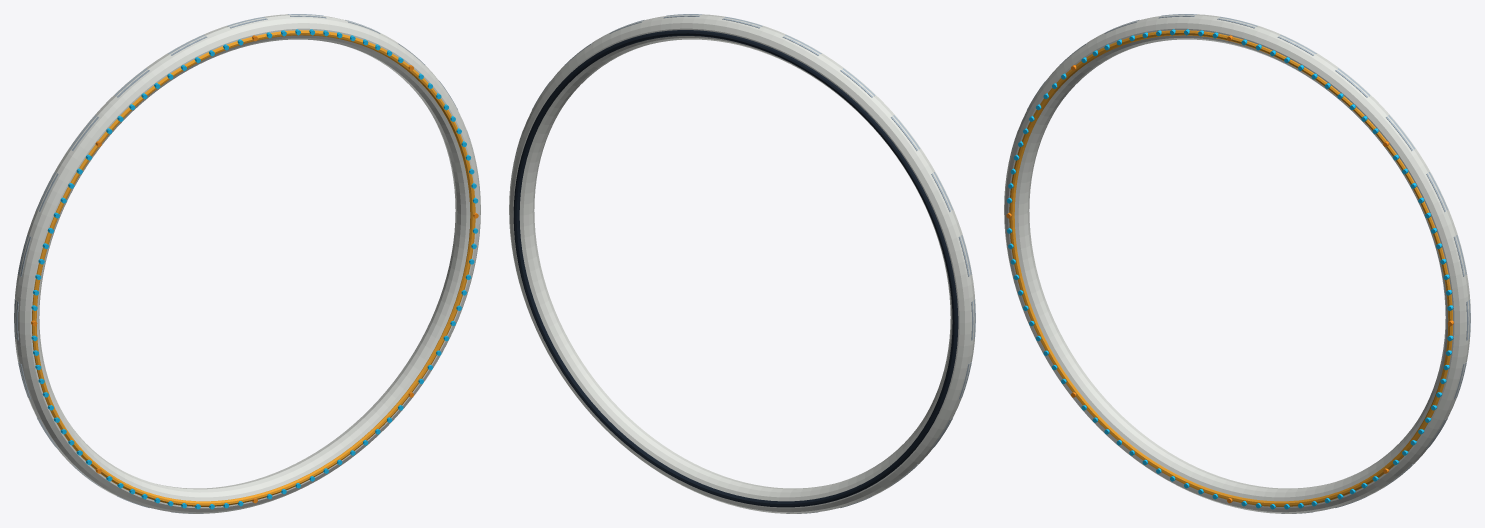
Rendered from 02_L87_RotatingHabitatRingMainRotor.fbx.
The picture shows the model from 3 angles, left to right: view 1: azimuth 30°, elevation 25°; view 2: azimuth 150°, elevation 25°; view 3: azimuth 330°, elevation 25°; orthographic projection.
Visible parts, largest first — view 1: L87_RotatingHabitatRingMainRotor_Part_0000, L87_RotatingHabitatRingMainRotor_Part_0001, L87_RotatingHabitatRingMainRotor_Part_0009, L87_RotatingHabitatRingMainRotor_Part_0005, L87_RotatingHabitatRingMainRotor_Part_0006, L87_RotatingHabitatRingMainRotor_Part_0004; view 2: L87_RotatingHabitatRingMainRotor_Part_0000, L87_RotatingHabitatRingMainRotor_Part_0002, L87_RotatingHabitatRingMainRotor_Part_0009; view 3: L87_RotatingHabitatRingMainRotor_Part_0000, L87_RotatingHabitatRingMainRotor_Part_0001, L87_RotatingHabitatRingMainRotor_Part_0009, L87_RotatingHabitatRingMainRotor_Part_0004, L87_RotatingHabitatRingMainRotor_Part_0005.
Part boxes in pixels (x1=…): L87_RotatingHabitatRingMainRotor_Part_0000: x1=14, y1=14, x2=480, y2=513; L87_RotatingHabitatRingMainRotor_Part_0001: x1=32, y1=30, x2=475, y2=506; L87_RotatingHabitatRingMainRotor_Part_0009: x1=14, y1=14, x2=470, y2=513; L87_RotatingHabitatRingMainRotor_Part_0005: x1=68, y1=29, x2=314, y2=188; L87_RotatingHabitatRingMainRotor_Part_0006: x1=31, y1=197, x2=82, y2=455; L87_RotatingHabitatRingMainRotor_Part_0004: x1=323, y1=30, x2=478, y2=203; L87_RotatingHabitatRingMainRotor_Part_0000: x1=509, y1=14, x2=975, y2=513; L87_RotatingHabitatRingMainRotor_Part_0002: x1=513, y1=30, x2=958, y2=507; L87_RotatingHabitatRingMainRotor_Part_0009: x1=519, y1=14, x2=975, y2=513; L87_RotatingHabitatRingMainRotor_Part_0000: x1=1004, y1=14, x2=1470, y2=513; L87_RotatingHabitatRingMainRotor_Part_0001: x1=1009, y1=30, x2=1452, y2=506; L87_RotatingHabitatRingMainRotor_Part_0009: x1=1014, y1=14, x2=1470, y2=340; L87_RotatingHabitatRingMainRotor_Part_0004: x1=1298, y1=65, x2=1453, y2=310; L87_RotatingHabitatRingMainRotor_Part_0005: x1=1043, y1=29, x2=1290, y2=99.
Bounding box in the file's own units: 1092 × 1092 × 66.2.
